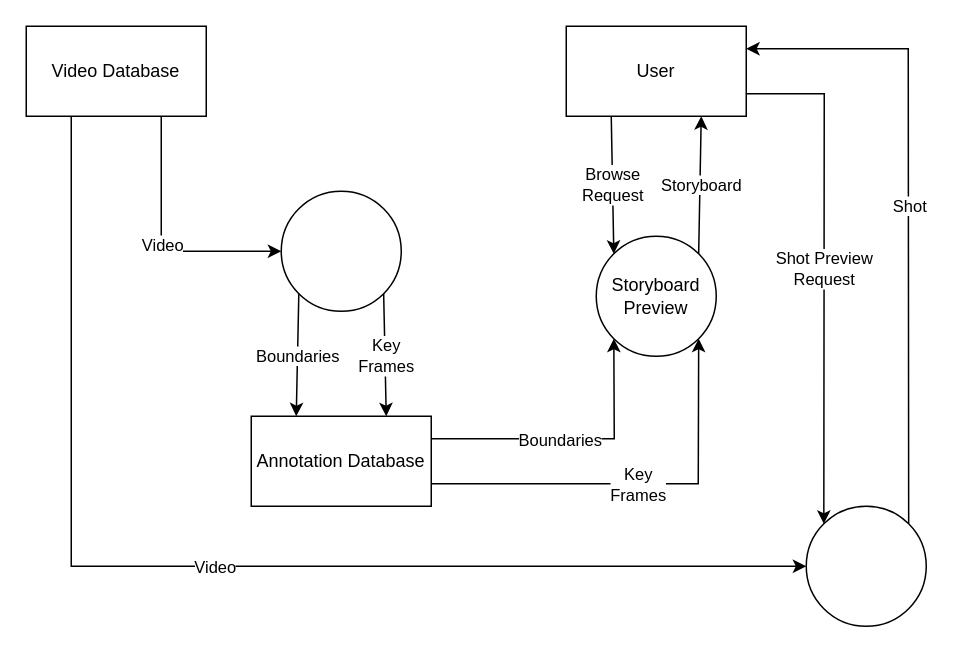
Some shapes in this 953 by 653 pixel diagram are drawn without their labels. The centre of each missing label's shape, as x and y in pixels:
"Shot Boundary Detection" belongs at pixel 340 250.
"Shot Preview" belongs at pixel 865 565.
